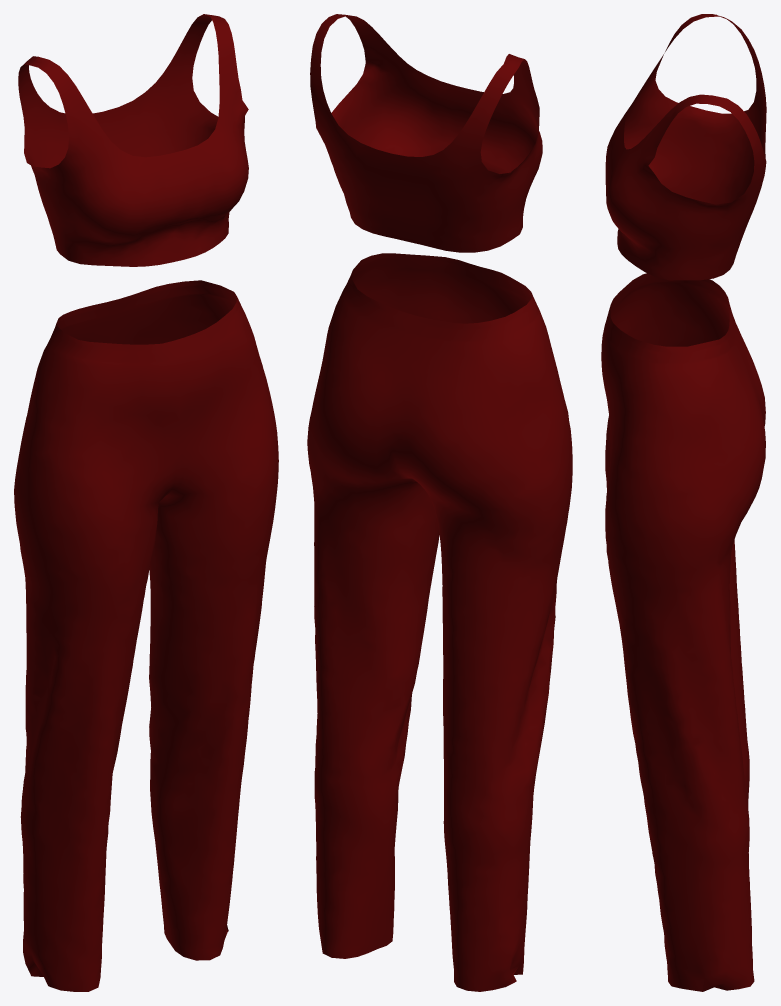
3 renders of one model, left to right at view 1: azimuth 30°, elevation 25°; view 2: azimuth 150°, elevation 25°; view 3: azimuth 270°, elevation 25°, orthographic. The views are drawn at different scales.
Parts seen in each view (by area): view 1: Deafault_2; view 2: Deafault_2; view 3: Deafault_2.
Part boxes in pixels (<box>): Deafault_2: <box>14,14,278,991</box>; Deafault_2: <box>307,14,572,991</box>; Deafault_2: <box>601,14,766,991</box>.
Size of the model in its own units: 0.3771 by 1.37 by 0.2278.
